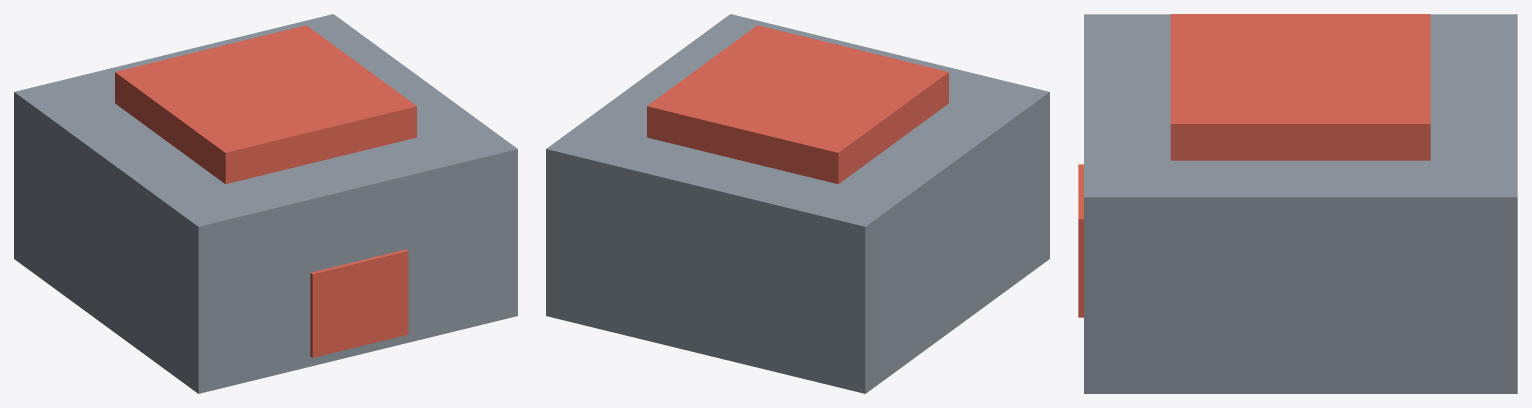
File: SU_WarFactory_LOD0.glb
3 renders of one model, left to right at view 1: azimuth 30°, elevation 25°; view 2: azimuth 150°, elevation 25°; view 3: azimuth 270°, elevation 25°, orthographic. The views are drawn at different scales.
Visible parts, largest first — view 1: EntranceGate; view 2: EntranceGate; view 3: EntranceGate.
Part boxes in pixels (box(x1,y1,x2,y2)): EntranceGate: box(14, 14, 517, 393); EntranceGate: box(546, 14, 1049, 393); EntranceGate: box(1078, 14, 1517, 393).
Bounding box in the file's own units: 800 × 475 × 810.
